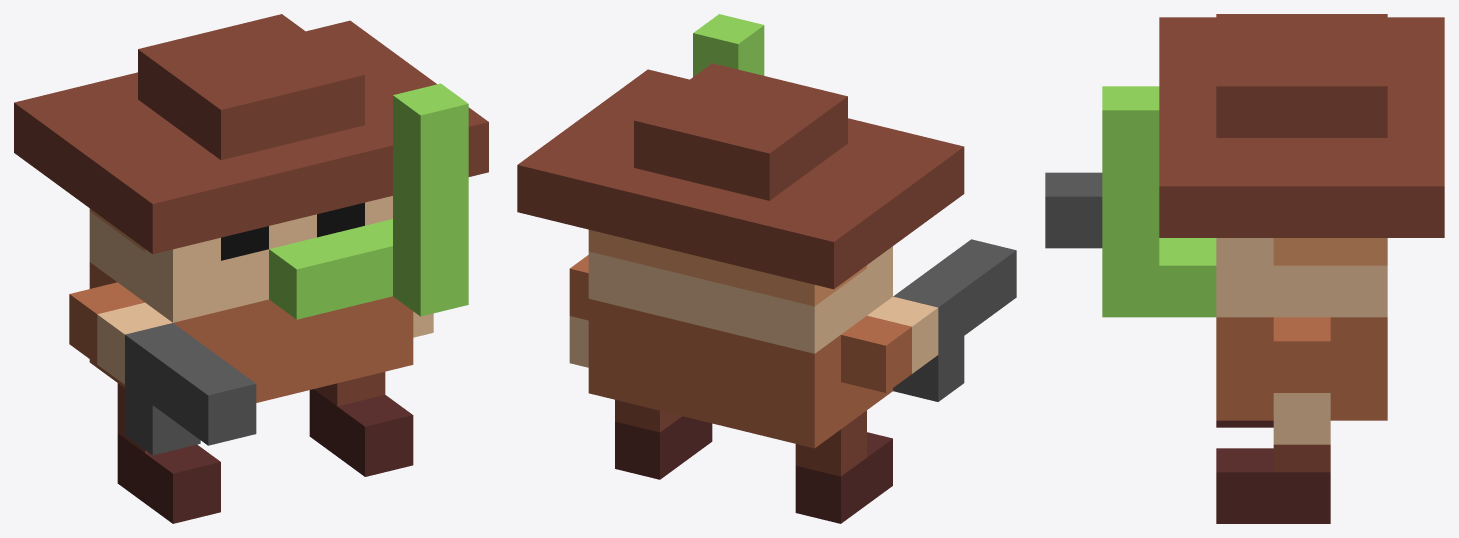
The model's file is Cowboy.obj.
3 views of the same model, side by side, from view 1: azimuth 30°, elevation 25°; view 2: azimuth 150°, elevation 25°; view 3: azimuth 270°, elevation 25° (orthographic). The views are drawn at different scales.
Visible parts, largest first — view 1: Cowboy; view 2: Cowboy; view 3: Cowboy.
Part boxes in pixels (x1,y1,x2,y2): Cowboy: (14, 14, 488, 523); Cowboy: (517, 14, 1016, 523); Cowboy: (1045, 14, 1444, 523).
Bounding box in the file's own units: 7 × 8 × 7.
Materials: 1 (1 with a texture image).
